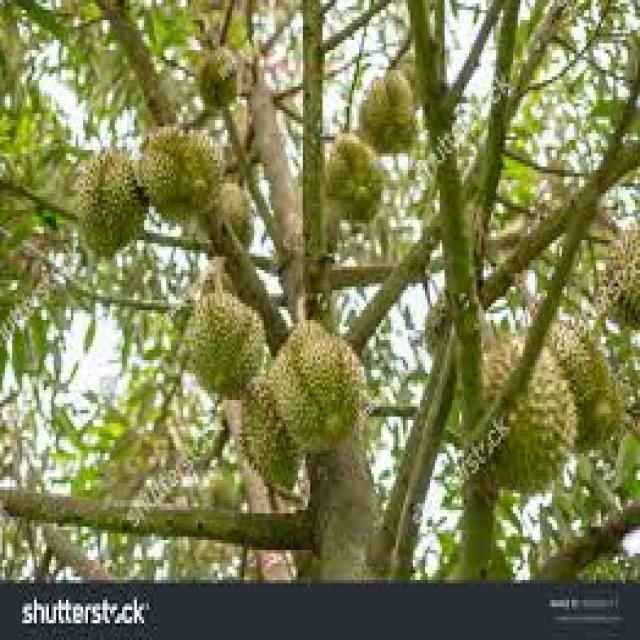immature: (480, 340, 579, 488), (271, 315, 365, 451), (187, 287, 265, 401), (76, 147, 148, 257)
mature: (637, 92, 640, 94)
